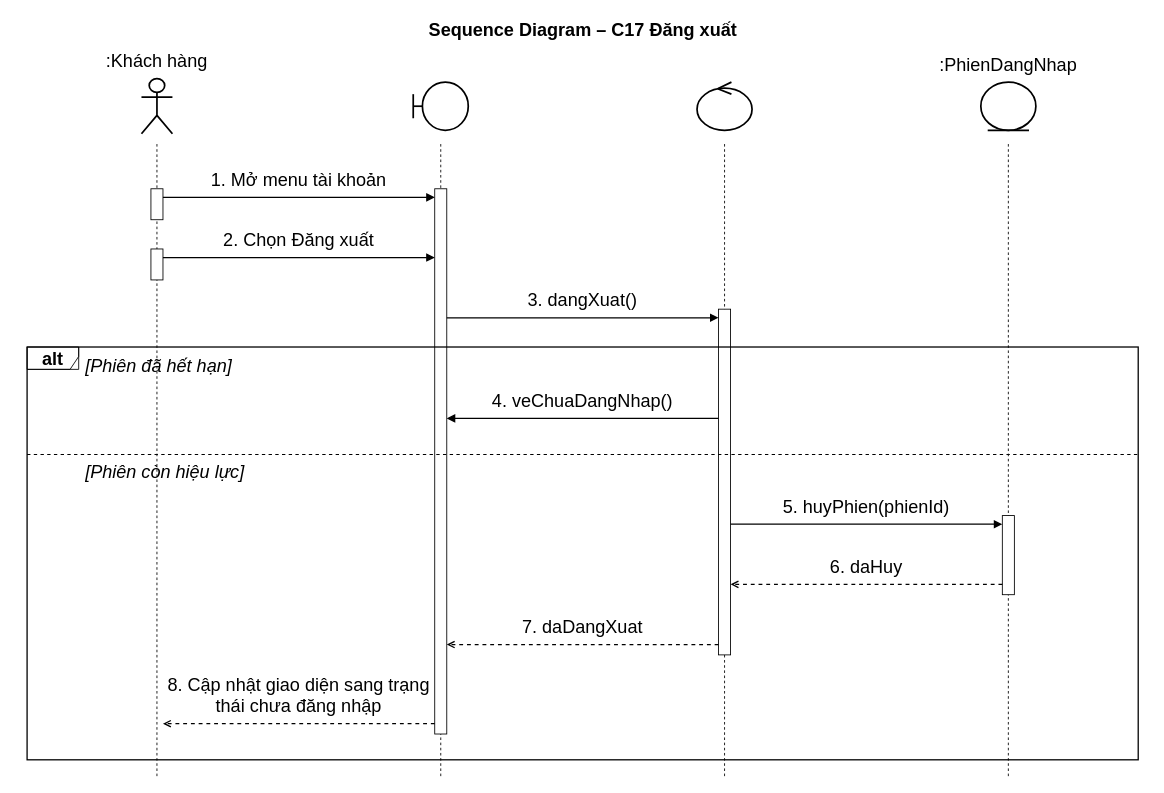
Image size: 1164x793. Some labels were removed from this diagram. Here are the shapes that lost their labels. From the top down, the box of each, then its label:
(412, 81, 469, 131): :DangXuatPage
(696, 81, 752, 131): :DangXuatController
